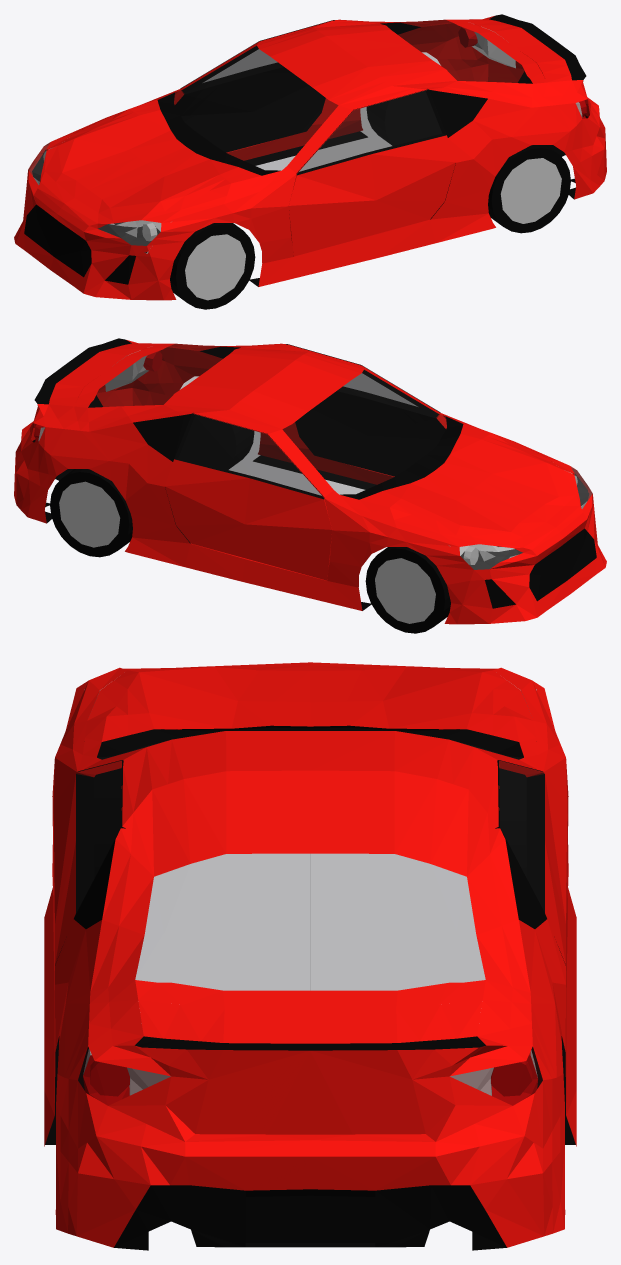
3 renders of one model, top to bottom at view 1: azimuth 30°, elevation 25°; view 2: azimuth 150°, elevation 25°; view 3: azimuth 270°, elevation 25°, orthographic. The views are drawn at different scales.
Parts seen in each view (by area): view 1: gt86; view 2: gt86; view 3: gt86.
Part boxes in pixels (x1,y1,x2,y2): gt86: [14, 14, 606, 309]; gt86: [14, 338, 606, 633]; gt86: [44, 662, 576, 1250].
Size of the model in its own units: 2.79 by 0.8466 by 1.24.
